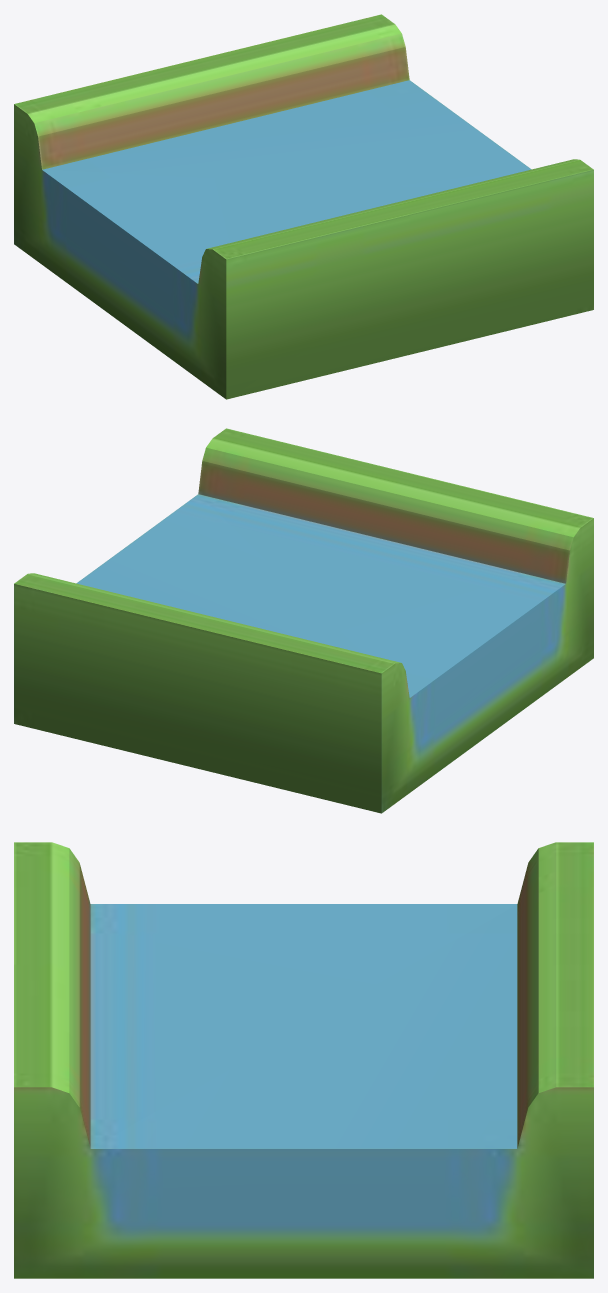
File: creek_straight.glb
3 views of the same model, one above another, from view 1: azimuth 30°, elevation 25°; view 2: azimuth 150°, elevation 25°; view 3: azimuth 270°, elevation 25° (orthographic). The views are drawn at different scales.
Visible parts, largest first — view 1: creek_straight; view 2: creek_straight; view 3: creek_straight.
Part boxes in pixels (x1,y1,x2,y2): creek_straight: [14, 14, 593, 399]; creek_straight: [14, 428, 593, 813]; creek_straight: [14, 842, 593, 1278].
Bounding box in the file's own units: 2 × 0.7285 × 2.
Materials: 1 (1 with a texture image).
